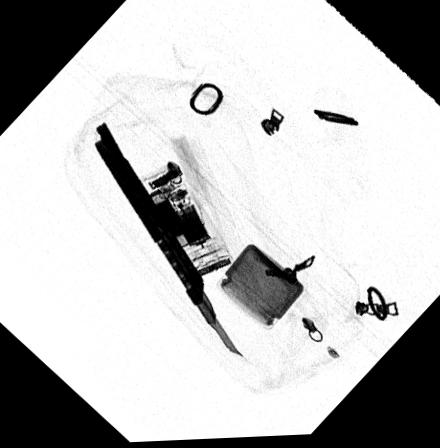Knife: (93, 123, 245, 359)
